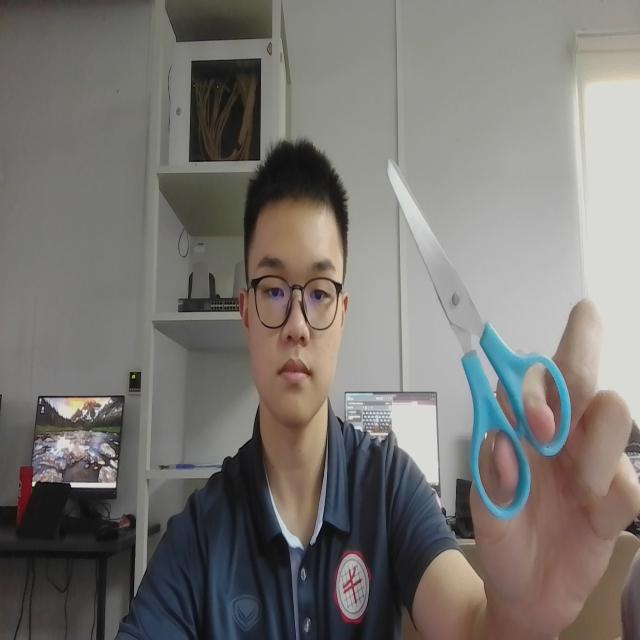scissors: (381, 147, 574, 528)
